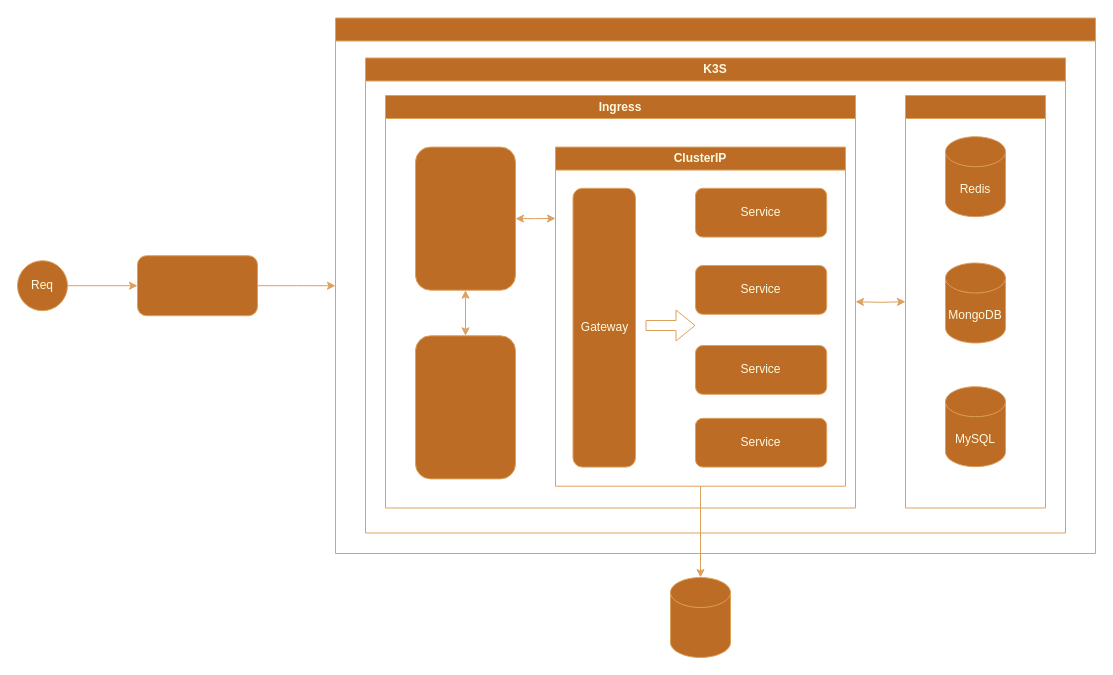
Some shapes in this 1113 by 675 pixel diagram are drawn without their labels. Each missing label, with the box of its shape:
AWS S3: (670, 576, 730, 658)
Cert-manager (Self-signed): (414, 335, 516, 479)
NodePort: (904, 94, 1046, 508)
On-premise(Ubuntu Server 22.04): (334, 17, 1096, 554)
Traefik: (414, 146, 516, 290)
VPN (Talescale) magic Domain: (136, 255, 258, 316)
